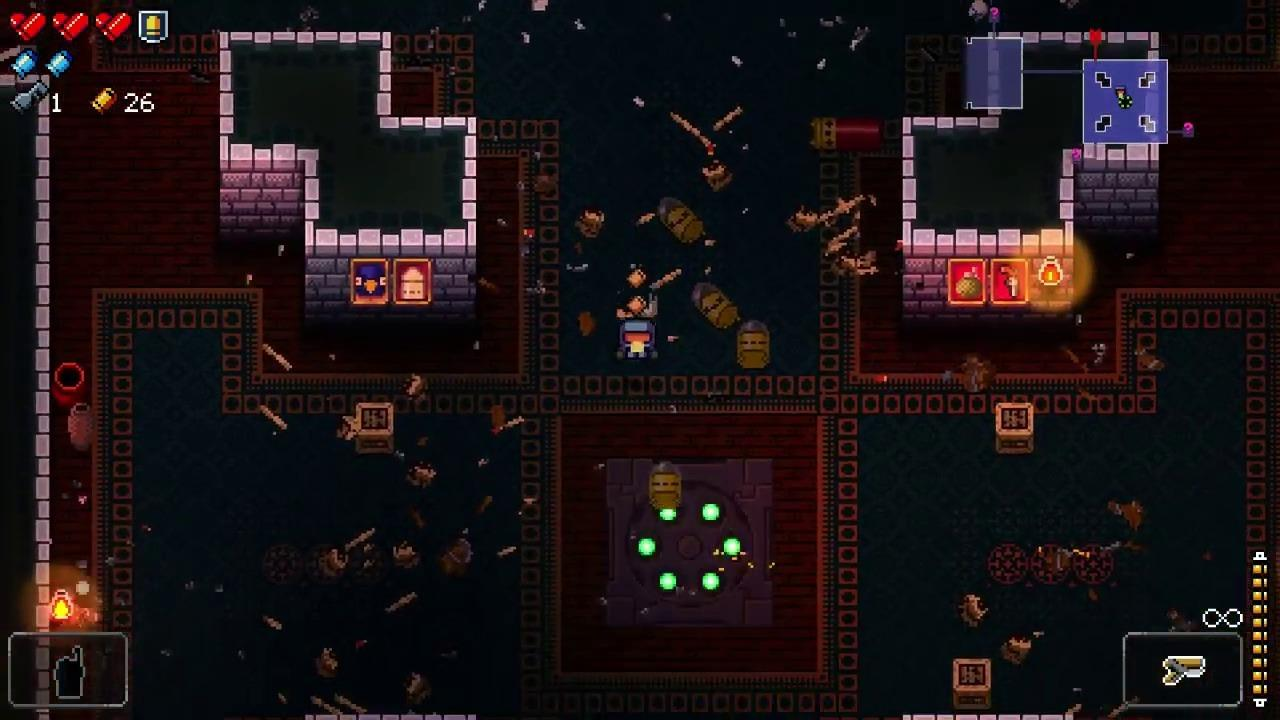dead_bullet_kin: (657, 194, 706, 244), (692, 281, 741, 331), (648, 459, 683, 510), (736, 321, 770, 369)
dead_red_shotgun_kin: (809, 118, 882, 151)
player: (618, 320, 658, 360)
teleporter: (607, 458, 773, 626)
